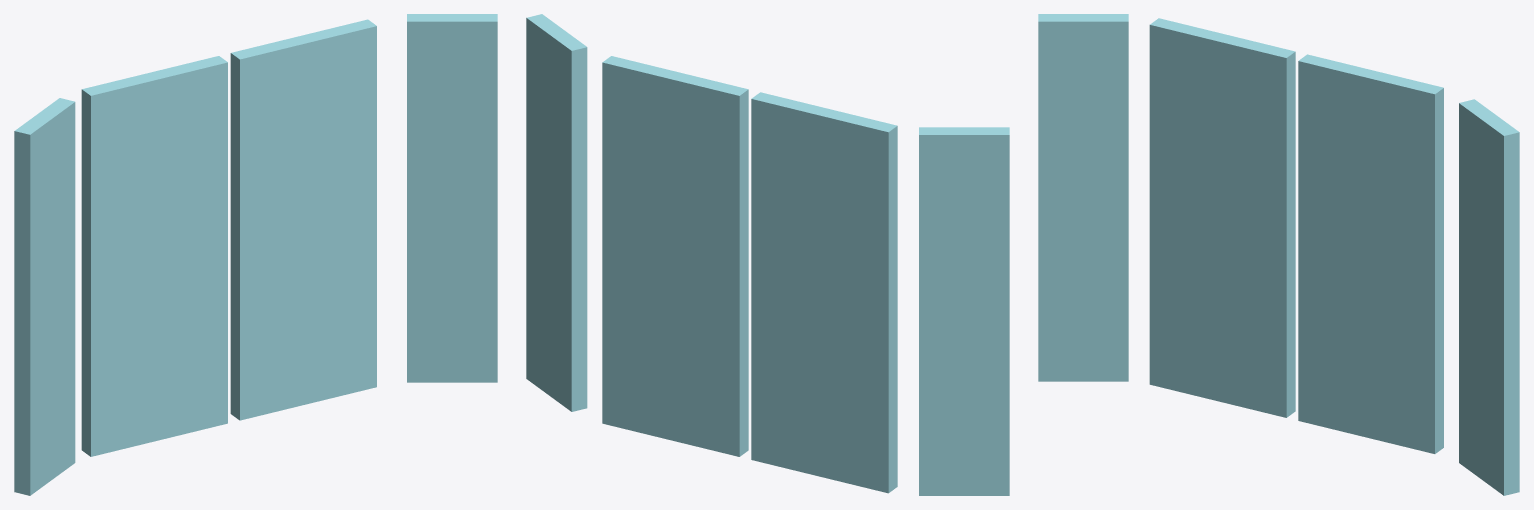
The model's file is cristales.obj.
3 views of the same model, side by side, from view 1: azimuth 30°, elevation 25°; view 2: azimuth 150°, elevation 25°; view 3: azimuth 330°, elevation 25° (orthographic).
Visible parts, largest first — view 1: cristalV, cristalV1, cristalV2, cristalV3; view 2: cristalV1, cristalV, cristalV3, cristalV2; view 3: cristalV1, cristalV, cristalV3, cristalV2.
Part boxes in pixels (x1,y1,x2,y2): cristalV: (230,19,376,420); cristalV1: (81,56,227,456); cristalV2: (407,14,497,382); cristalV3: (14,98,75,495); cristalV1: (751,92,897,493); cristalV: (602,56,748,456); cristalV3: (919,127,1009,495); cristalV2: (526,14,587,411); cristalV1: (1149,18,1295,417); cristalV: (1298,54,1443,453); cristalV3: (1038,14,1128,381); cristalV2: (1459,99,1519,495).
Size of the model in its own units: 6.16 by 4.41 by 0.7648.
1 material, 1 textured.
